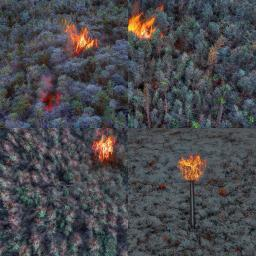Small fire: (55, 10, 110, 68), (81, 121, 125, 168), (127, 0, 170, 43), (170, 148, 213, 187)
